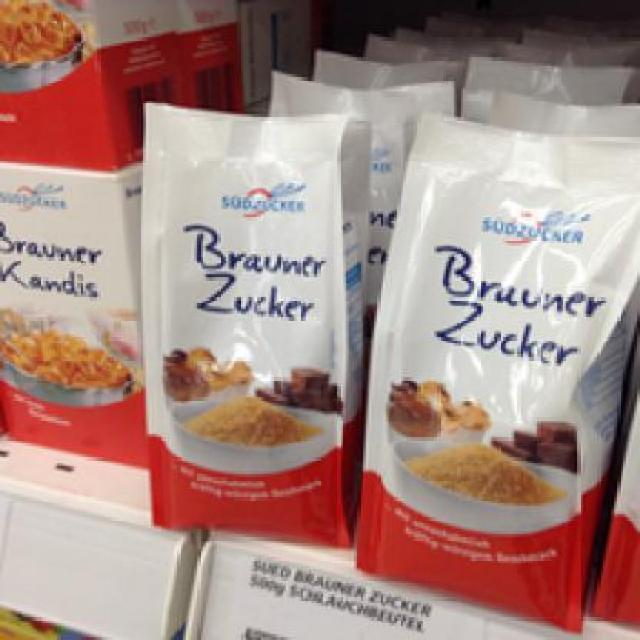Sugar: (354, 111, 637, 628), (132, 93, 358, 550), (0, 159, 140, 472)
